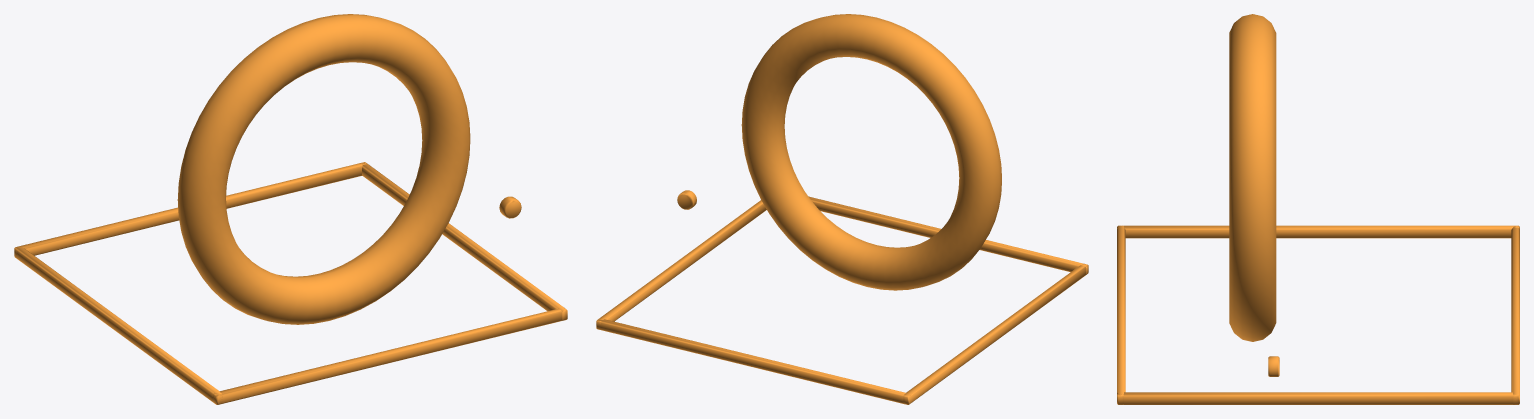
Rendered from MM_DepositDrum__Orange.fbx.
3 views of the same model, side by side, from view 1: azimuth 30°, elevation 25°; view 2: azimuth 150°, elevation 25°; view 3: azimuth 270°, elevation 25° (orthographic). The views are drawn at different scales.
Visible parts, largest first — view 1: MM_DepositDrum__Orange; view 2: MM_DepositDrum__Orange; view 3: MM_DepositDrum__Orange.
Part boxes in pixels (x1,y1,x2,y2): MM_DepositDrum__Orange: (14,14,567,404); MM_DepositDrum__Orange: (596,14,1088,404); MM_DepositDrum__Orange: (1117,14,1519,404).
Size of the model in its own units: 766 by 574 by 705.
